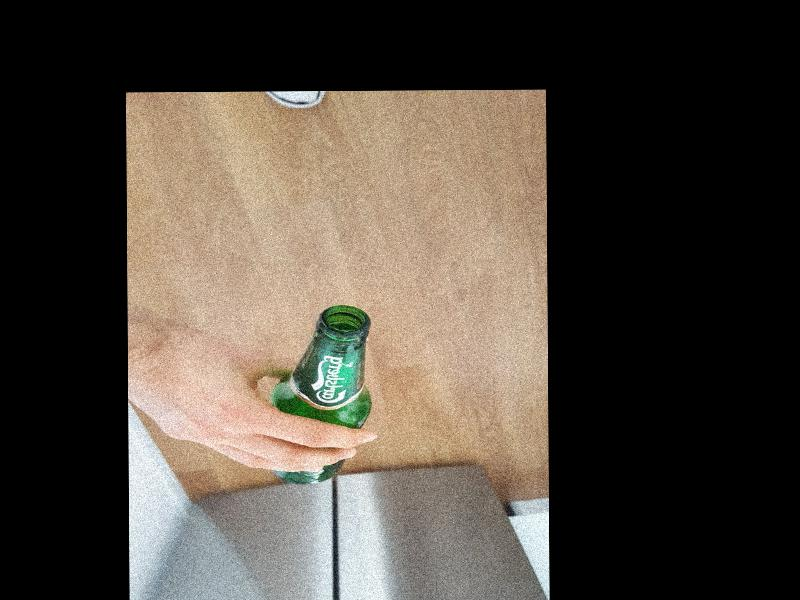Beer: (270, 304, 371, 484)
